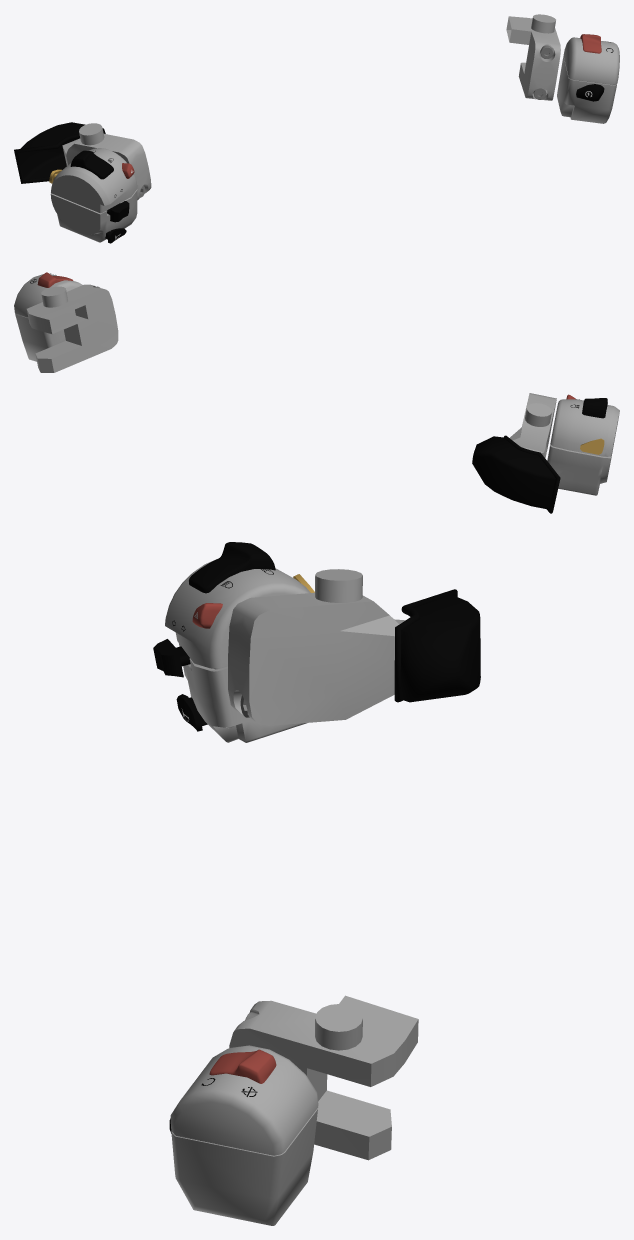
File: SwitchAssemb_ALMN.glb
3 renders of one model, top to bottom at view 1: azimuth 30°, elevation 25°; view 2: azimuth 150°, elevation 25°; view 3: azimuth 270°, elevation 25°, orthographic. The views are drawn at different scales.
Visible parts, largest first — view 1: ControlBody_R_ALMN, ControlAssem_LT_ALMN, ClusterFrame_R_ALMN, ClutchCover, ClusterFrame_L_ALMN, ControlAssem_LB_ALMN, HeadlightButton, TurnSignals_Button; view 2: ClusterFrame_R_ALMN, ClutchCover, ControlAssem_LT_ALMN, ControlBody_R_ALMN, ControlAssem_LB_ALMN, ClusterFrame_L_ALMN, HeadlightButton; view 3: ClusterFrame_L_ALMN, ControlBody_R_ALMN, ClusterFrame_R_ALMN, ClutchCover, ControlAssem_LT_ALMN, ControlAssem_LB_ALMN, HeadlightButton, TurnSignals_Button.
Part boxes in pixels (x1,y1,x2,y2): ControlBody_R_ALMN: (557,34,619,123); ControlAssem_LT_ALMN: (51,148,137,213); ClusterFrame_R_ALMN: (506,14,560,100); ClutchCover: (14,122,105,183); ClusterFrame_L_ALMN: (62,123,151,200); ControlAssem_LB_ALMN: (50,189,137,242); HeadlightButton: (70,150,113,179); TurnSignals_Button: (107,201,129,222); ClusterFrame_R_ALMN: (26,284,118,372); ClutchCover: (472,435,560,513); ControlAssem_LT_ALMN: (550,399,619,456); ControlBody_R_ALMN: (14,272,82,361); ControlAssem_LB_ALMN: (547,442,614,495); ClusterFrame_L_ALMN: (510,393,556,457); HeadlightButton: (582,398,607,418); ClusterFrame_L_ALMN: (228,569,405,725); ControlBody_R_ALMN: (169,1045,318,1225); ClusterFrame_R_ALMN: (229,995,418,1160); ClutchCover: (394,589,480,702); ControlAssem_LT_ALMN: (165,559,310,668); ControlAssem_LB_ALMN: (179,643,306,742); HeadlightButton: (189,542,275,593); TurnSignals_Button: (153,639,190,677).
Size of the model in its own units: 0.5884 by 0.0873 by 0.1491.
